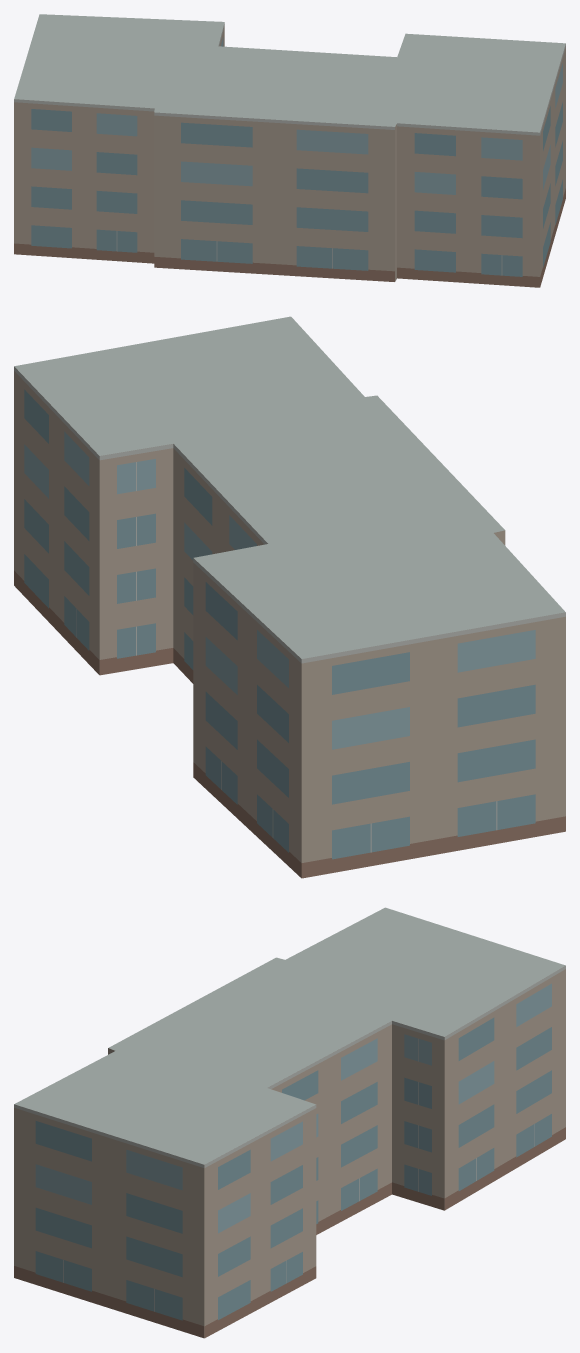
File: survey-upis-32884769.glb
3 renders of one model, top to bottom at view 1: azimuth 30°, elevation 25°; view 2: azimuth 150°, elevation 25°; view 3: azimuth 270°, elevation 25°, orthographic. The views are drawn at different scales.
Visible parts, largest first — view 1: survey-upis-32884769.tmp; view 2: survey-upis-32884769.tmp; view 3: survey-upis-32884769.tmp.
Part boxes in pixels (left/top/right/bottom): survey-upis-32884769.tmp: left=14, top=14, right=565, bottom=287; survey-upis-32884769.tmp: left=14, top=316, right=565, bottom=878; survey-upis-32884769.tmp: left=14, top=907, right=565, bottom=1338.
Size of the model in its own units: 38.77 by 12.2 by 35.14.
